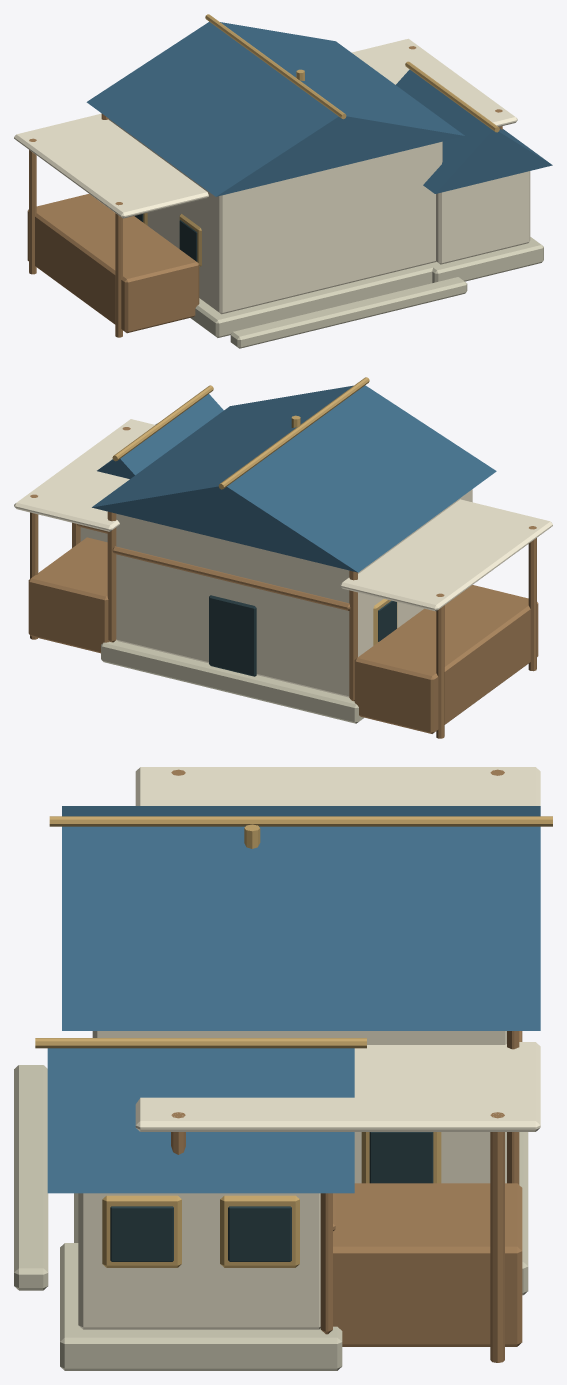
File: level_11.glb
The picture shows the model from 3 angles, top to bottom: view 1: azimuth 30°, elevation 25°; view 2: azimuth 150°, elevation 25°; view 3: azimuth 270°, elevation 25°; orthographic projection. The views are drawn at different scales.
Visible parts, largest first — view 1: market — level 11; view 2: market — level 11; view 3: market — level 11.
Boxes of the visible parts, x1=… form: market — level 11: x1=14, y1=14, x2=552, y2=348; market — level 11: x1=14, y1=377, x2=552, y2=738; market — level 11: x1=14, y1=767, x2=552, y2=1370.
Bounding box in the file's own units: 7.08 × 3.35 × 4.39.
